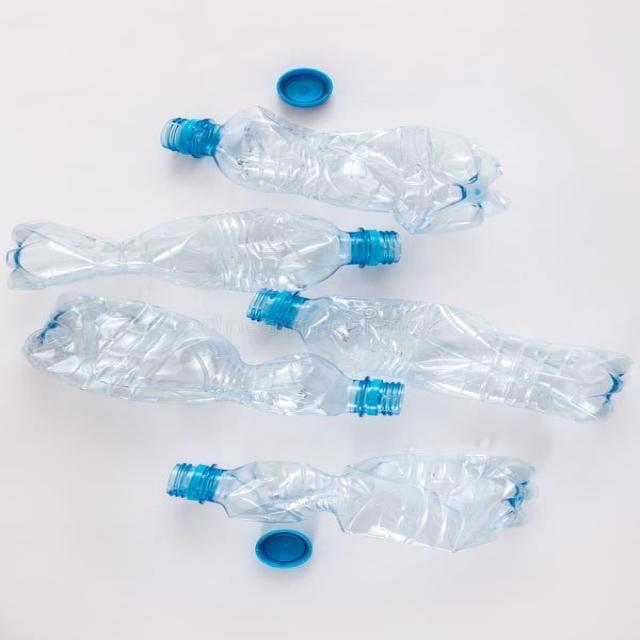plastic bottle: (249, 287, 636, 422), (19, 292, 406, 416), (160, 104, 508, 234), (167, 458, 538, 553), (9, 210, 399, 290)
plastic bottle cap: (273, 67, 334, 110), (255, 529, 313, 566)
